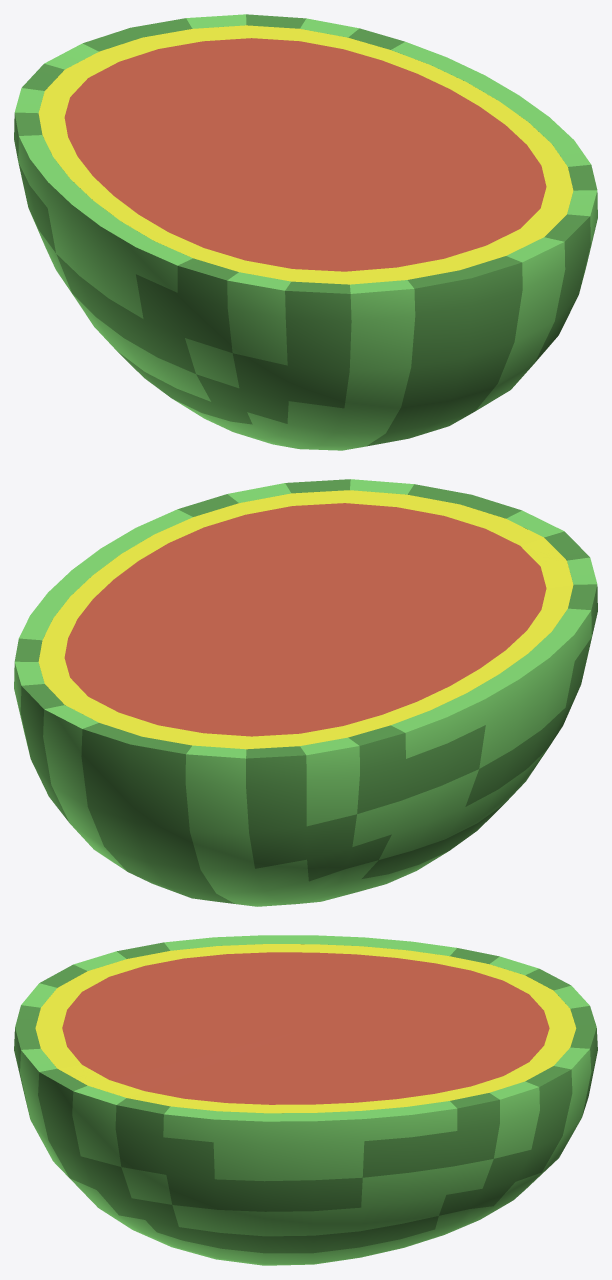
The model's file is WaterMelon.fbx.
3 views of the same model, one above another, from view 1: azimuth 30°, elevation 25°; view 2: azimuth 150°, elevation 25°; view 3: azimuth 270°, elevation 25° (orthographic). The views are drawn at different scales.
Parts seen in each view (by area): view 1: vo2, vo1; view 2: vo2, vo1; view 3: vo1, vo2.
Part boxes in pixels (<box>): vo2: <box>38,25,573,284</box>; vo1: <box>14,14,597,450</box>; vo2: <box>38,490,573,749</box>; vo1: <box>14,479,597,906</box>; vo1: <box>14,935,597,1265</box>; vo2: <box>35,944,576,1113</box>.
Bounding box in the file's own units: 61.9 × 33.41 × 81.86.
